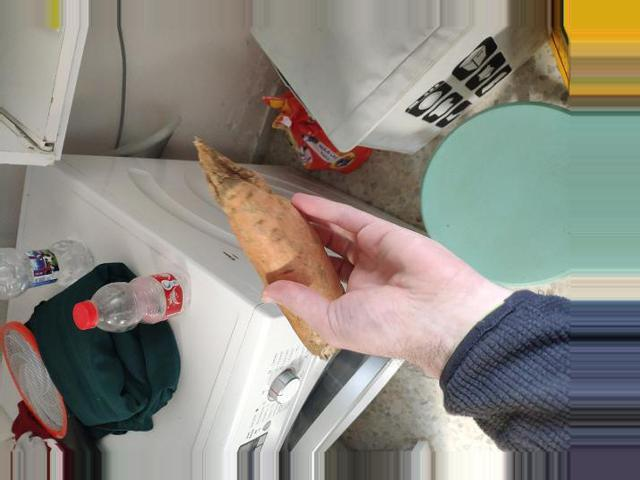sweet_potato: (220, 196, 338, 318)
